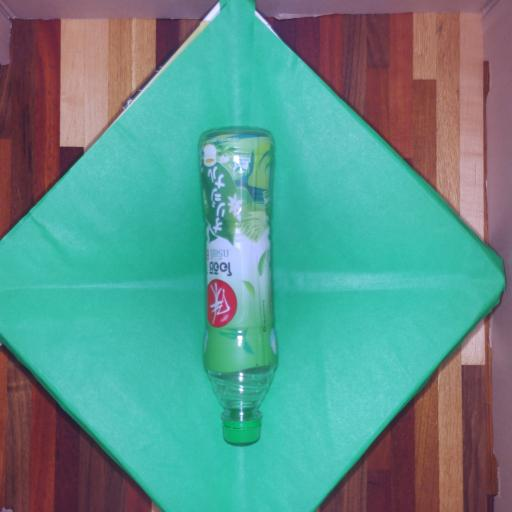bottle: (159, 113, 307, 459)
